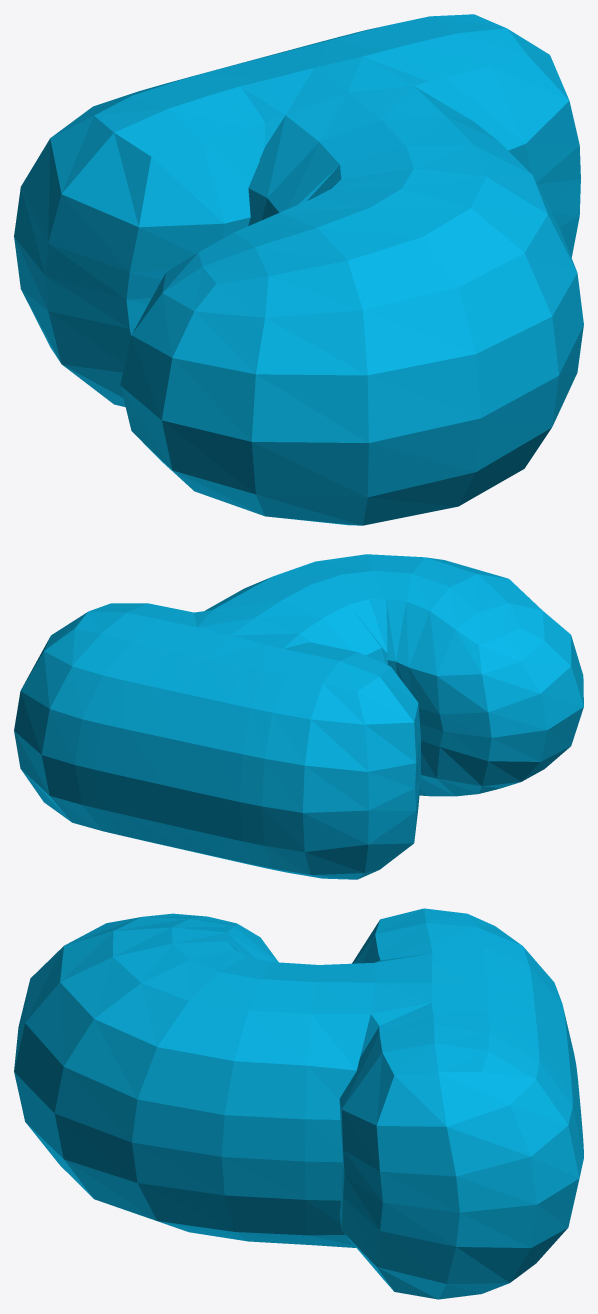
3 views of the same model, one above another, from view 1: azimuth 30°, elevation 25°; view 2: azimuth 150°, elevation 25°; view 3: azimuth 270°, elevation 25° (orthographic). The views are drawn at different scales.
Bounding box in the file's own units: 0.9438 × 0.4525 × 0.9494.
